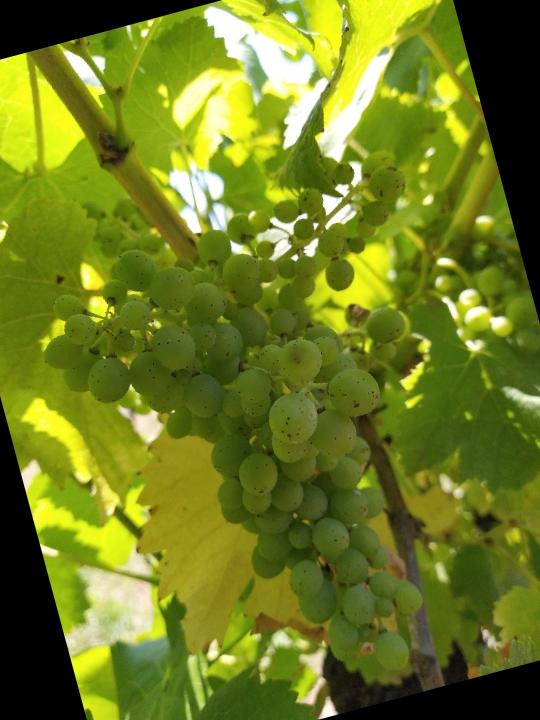grape: (10, 139, 529, 720)
